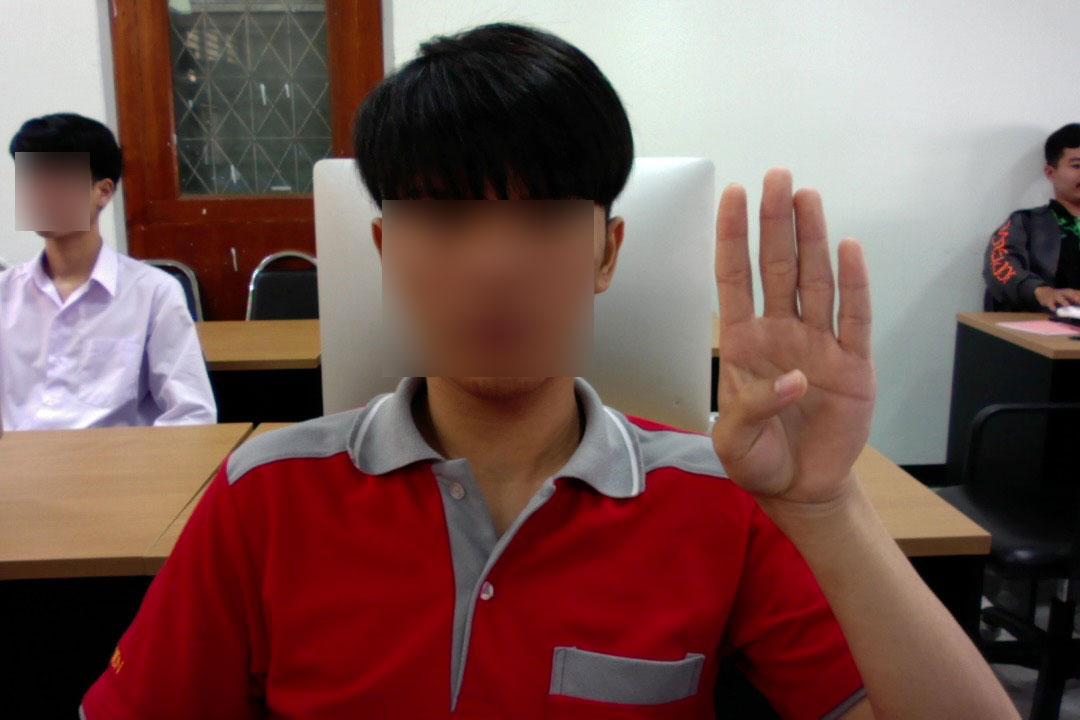bor: (704, 161, 882, 540)
